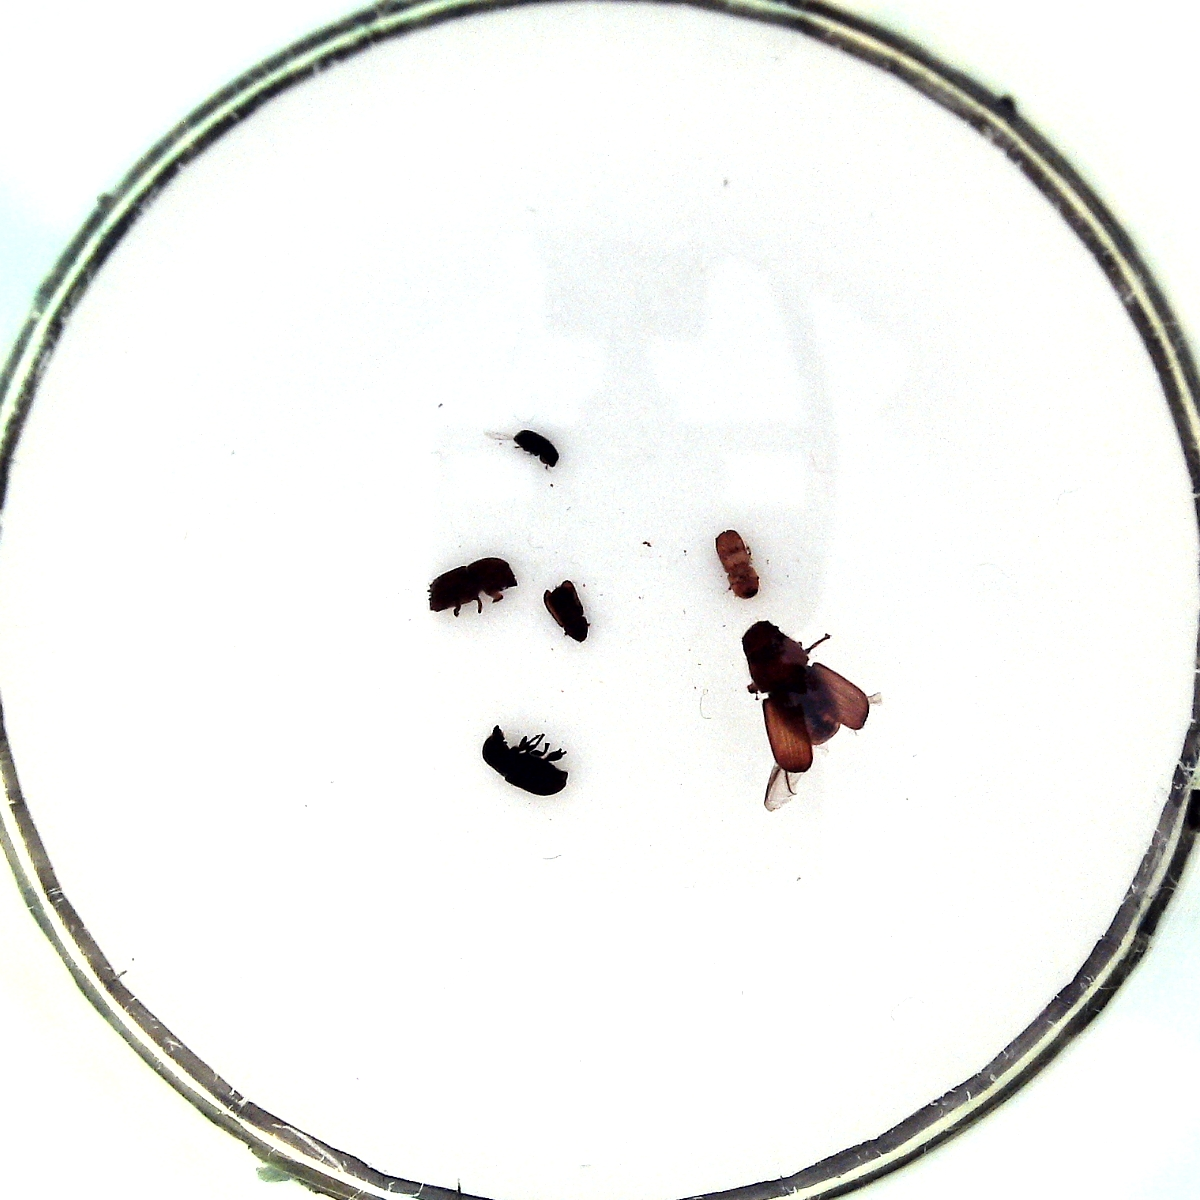Leconte: (741, 621, 841, 746)
acuminatus: (513, 429, 559, 467)
armandi: (482, 724, 569, 797)
coleoptera: (715, 530, 760, 599), (543, 579, 589, 643)
linnaeus: (427, 556, 516, 613)
